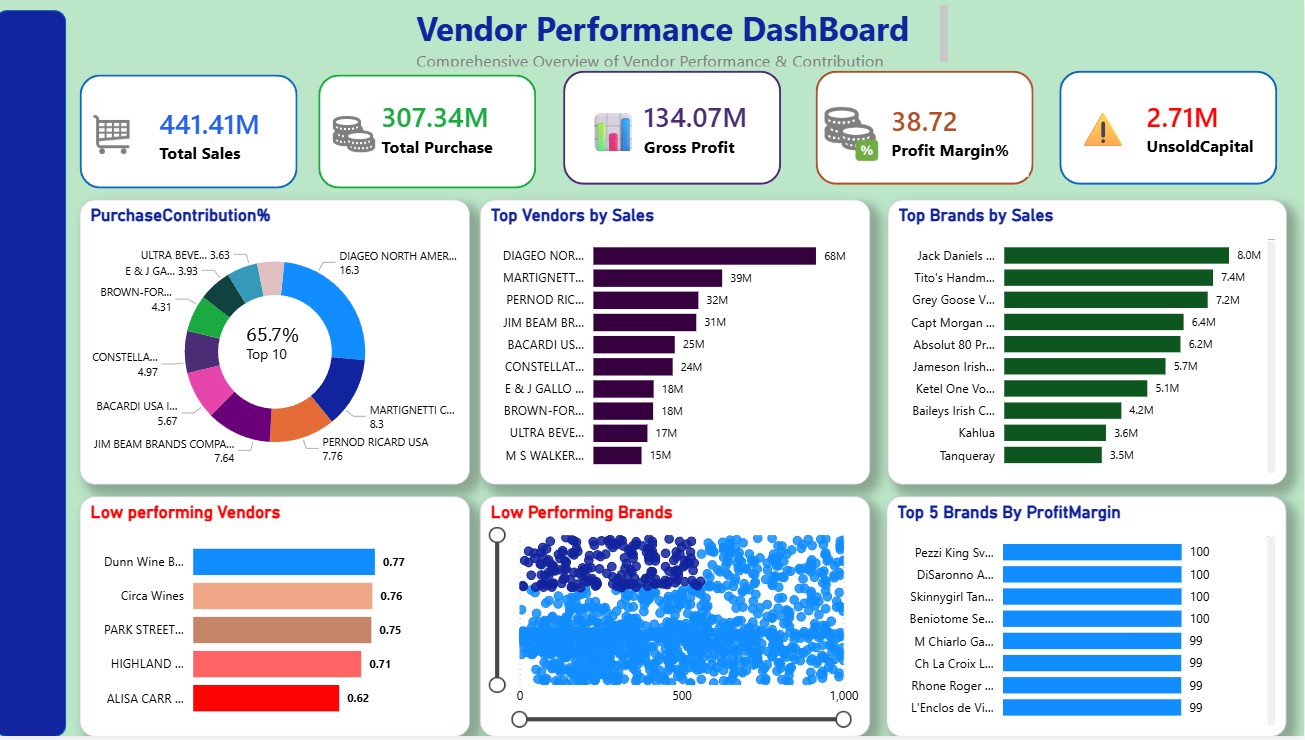

Layout of this report page (visuals, bound fields, positions):
{"tool":"powerbi","page":{"name":"Page 1","canvas":[1280,720],"ordinal":0},"visuals":[{"type":"textbox","box":[407,0,529.6,69.7],"z":0},{"type":"shape","box":[0,9.8,69.7,710.8],"z":1000},{"type":"shape","box":[82.2,72.5,213.2,111.5],"z":2000},{"type":"cardVisual","fields":{"Data":["Sum(vendor_summary.TotalSalesDollars)"]},"box":[129.6,86.4,165.9,89.2],"z":3000},{"type":"shape","box":[556.1,69.7,213.2,111.5],"z":4000},{"type":"cardVisual","fields":{"Data":["_measures.Gross Profit"]},"box":[603.5,80.8,165.9,89.2],"z":5000},{"type":"shape","box":[802.8,69.7,213.2,111.5],"z":6000},{"type":"cardVisual","fields":{"Data":["_measures.Profit Margin%"]},"box":[855.7,78,160.3,100.3],"z":7000},{"type":"shape","box":[316.4,72.5,213.2,111.5],"z":8000},{"type":"cardVisual","fields":{"Data":["_measures.Total Purchase"]},"box":[347,80.8,178.4,89.2],"z":9000},{"type":"shape","box":[1041.1,69.7,213.2,111.5],"z":10000},{"type":"cardVisual","fields":{"Data":["_measures.UnsoldCapital"]},"box":[1105.2,78,149.1,94.8],"z":11000},{"type":"image","box":[85,108.7,59.9,46],"z":12000},{"type":"image","box":[316.4,107.3,68.3,47.4],"z":13000},{"type":"textbox","box":[574.2,97.6,58.5,65.5],"z":14000},{"type":"image","box":[802.8,97.6,68.3,66.9],"z":15000},{"type":"textbox","box":[1053.7,92,64.1,65.5],"z":16000},{"type":"donutChart","title":"PurchaseContribution%","fields":{"Y":["Sum(purchase_contribution_table.PurchaseContibution%)"],"Category":["purchase_contribution_table.VendorName"]},"box":[82.2,195.1,381.9,278.7],"z":17000},{"type":"textbox","box":[241.1,292.7,65.5,83.6],"z":18000},{"type":"barChart","title":"Top Vendors by Sales","fields":{"Category":["vendor_summary.VendorName"],"Y":["Sum(vendor_summary.TotalSalesDollars)"]},"box":[473.9,195.1,381.9,278.7],"z":19000},{"type":"barChart","title":"Top Brands by Sales","fields":{"Y":["Sum(vendor_summary.TotalSalesDollars)"],"Category":["vendor_summary.Description"]},"box":[872.5,195.1,390.2,278.7],"z":20000},{"type":"barChart","title":"Low performing Vendors","fields":{"Category":["low_turnover_vendor_table.VendorName"],"Y":["Avg(low_turnover_vendor_table.StockTurnOver)"]},"box":[82.2,485,381.9,235.5],"z":21000},{"type":"barChart","title":"Top 5 Brands By ProfitMargin","fields":{"Category":["vendor_summary.Description"],"Y":["_measures.Profit Margin%"]},"box":[871.1,485,391.6,235.5],"z":22000},{"type":"scatterChart","title":"Low Performing Brands","fields":{"X":["brand_performance_table.TotalSalesDollars"],"Y":["brand_performance_table.ProfitMargin"],"Series":["brand_performance_table.TargetBrand"]},"box":[473.9,485,381.9,235.5],"z":23000}]}

Visuals, with their boxes in screenshot pixels (x1, y1, x2, y2), scaled from the page's 1280x720 canvas onto the 1305x740 screenshot:
textbox: x1=415 y1=0 x2=955 y2=72
shape: x1=0 y1=10 x2=71 y2=739
shape: x1=84 y1=75 x2=301 y2=189
cardVisual - Sum(vendor_summary.TotalSalesDollars): x1=132 y1=89 x2=301 y2=180
shape: x1=567 y1=72 x2=784 y2=186
cardVisual - _measures.Gross Profit: x1=615 y1=83 x2=784 y2=175
shape: x1=818 y1=72 x2=1036 y2=186
cardVisual - _measures.Profit Margin%: x1=872 y1=80 x2=1036 y2=183
shape: x1=323 y1=75 x2=540 y2=189
cardVisual - _measures.Total Purchase: x1=354 y1=83 x2=536 y2=175
shape: x1=1061 y1=72 x2=1279 y2=186
cardVisual - _measures.UnsoldCapital: x1=1127 y1=80 x2=1279 y2=178
image: x1=87 y1=112 x2=148 y2=159
image: x1=323 y1=110 x2=392 y2=159
textbox: x1=585 y1=100 x2=645 y2=168
image: x1=818 y1=100 x2=888 y2=169
textbox: x1=1074 y1=95 x2=1140 y2=162
"PurchaseContribution%" donutChart: x1=84 y1=201 x2=473 y2=487
textbox: x1=246 y1=301 x2=313 y2=387
"Top Vendors by Sales" barChart: x1=483 y1=201 x2=873 y2=487
"Top Brands by Sales" barChart: x1=890 y1=201 x2=1287 y2=487
"Low performing Vendors" barChart: x1=84 y1=498 x2=473 y2=739
"Top 5 Brands By ProfitMargin" barChart: x1=888 y1=498 x2=1287 y2=739
"Low Performing Brands" scatterChart: x1=483 y1=498 x2=873 y2=739
